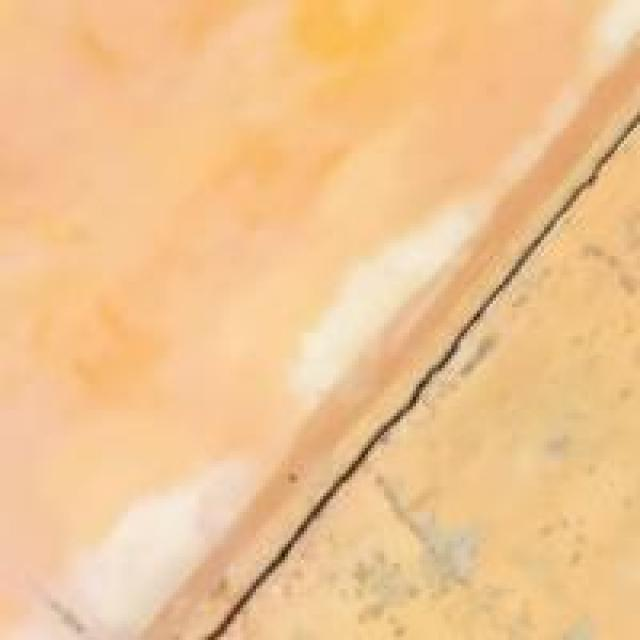crack: (138, 106, 636, 636)
